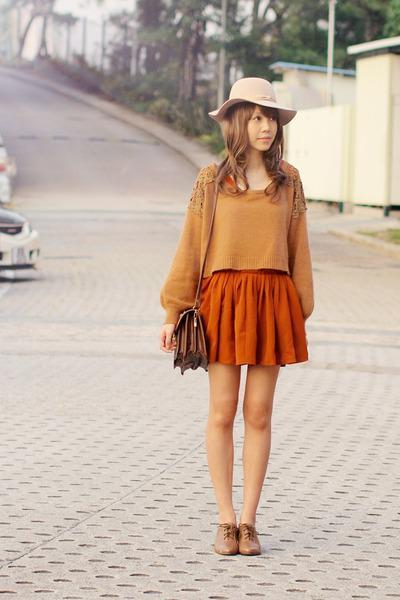bag: (162, 307, 207, 371)
hat: (229, 72, 286, 107)
shirt: (160, 159, 313, 323)
shoe: (216, 518, 264, 555)
skirt: (180, 257, 308, 366)
